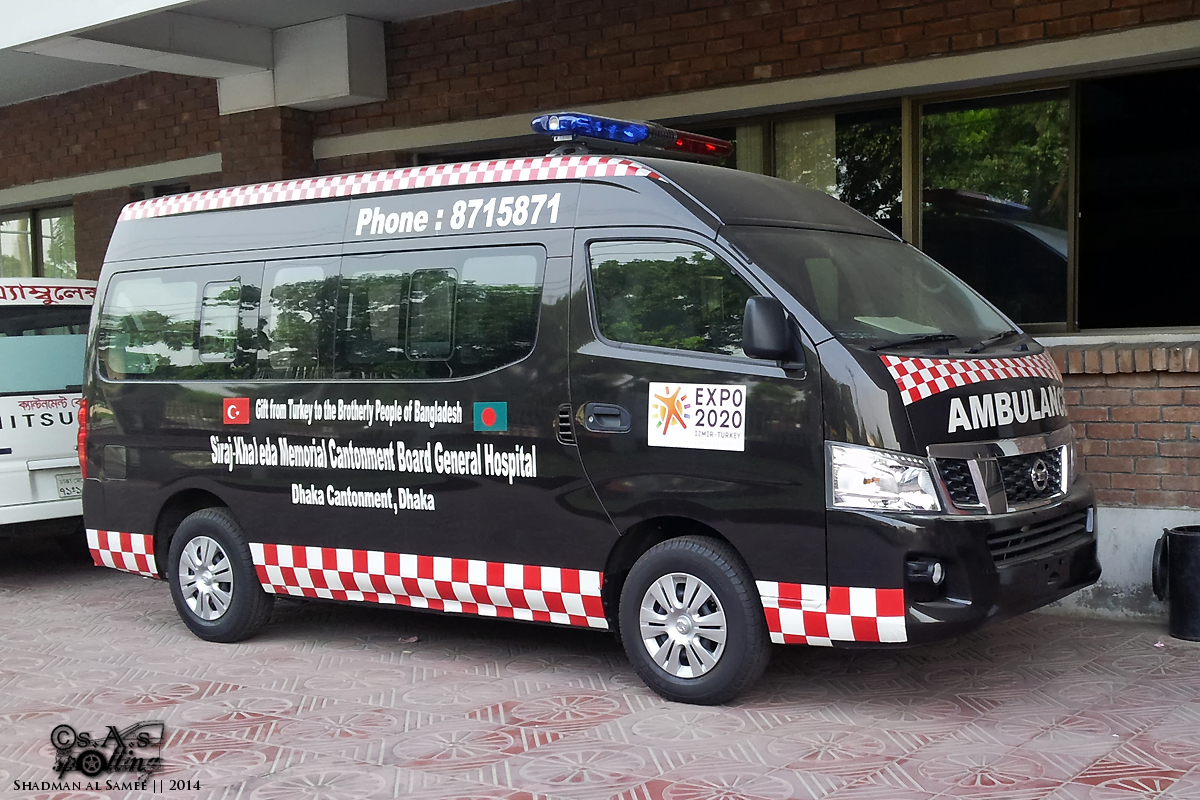Ambulance: (60, 90, 1116, 695), (2, 264, 131, 558)
